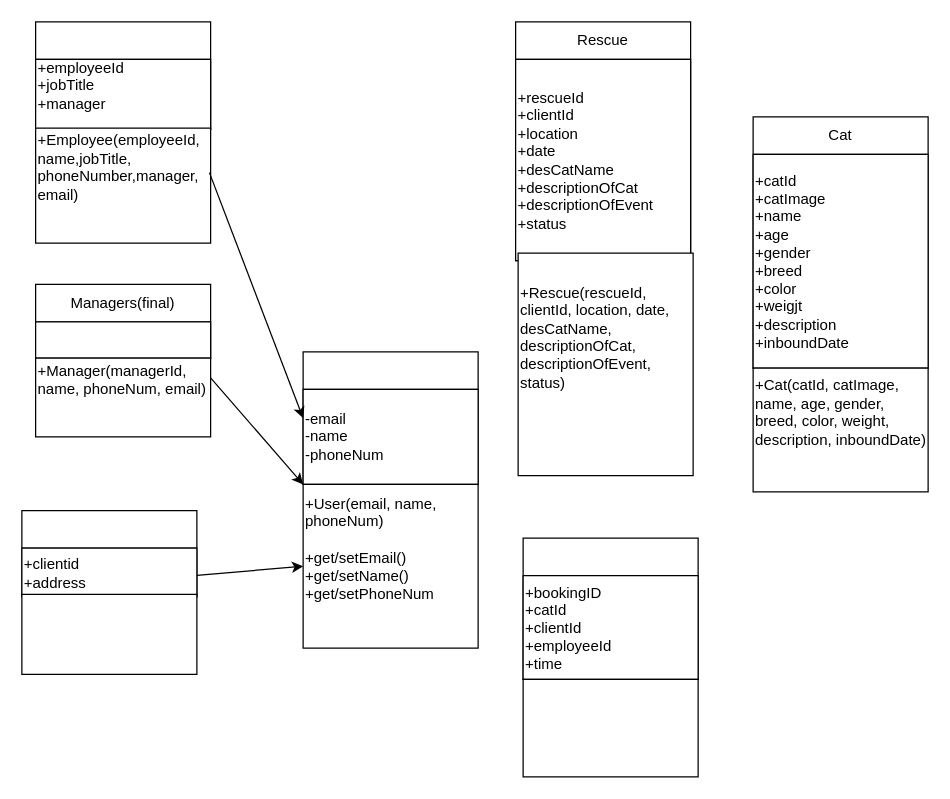
This 950x799 diagram has some shape labels left out. Each missing label, with the box of its shape:
+Booking(bookingId, time): (522, 678, 698, 777)
+client(clientId, email, name. phoneNum, address ): (21, 593, 197, 674)
+managerid: (34, 321, 211, 358)
Bookings: (522, 537, 698, 679)
Clients(final): (21, 509, 197, 597)
Employees(final): (34, 21, 211, 129)
User(absract): (302, 351, 478, 484)
